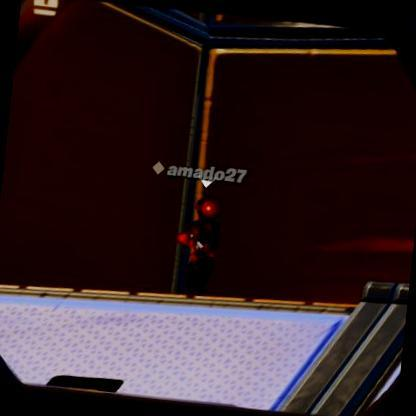person: (174, 197, 224, 298)
